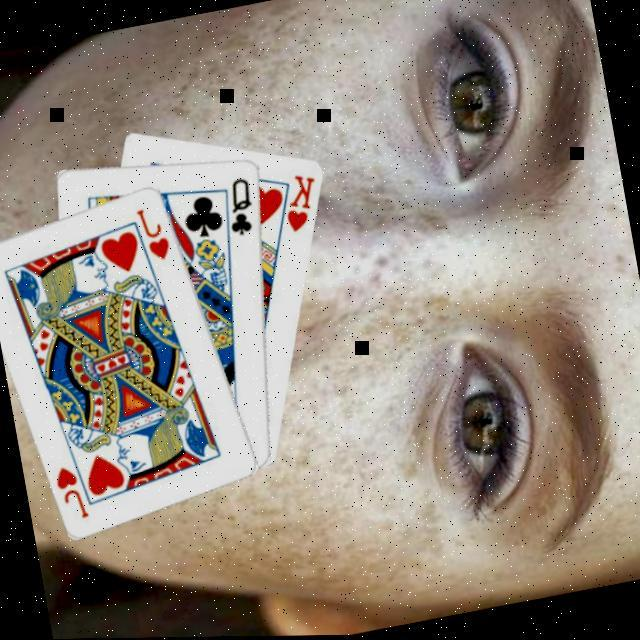JH: (134, 202, 176, 268), (51, 460, 93, 526)
KH: (277, 170, 327, 238)
QC: (220, 175, 262, 241)
